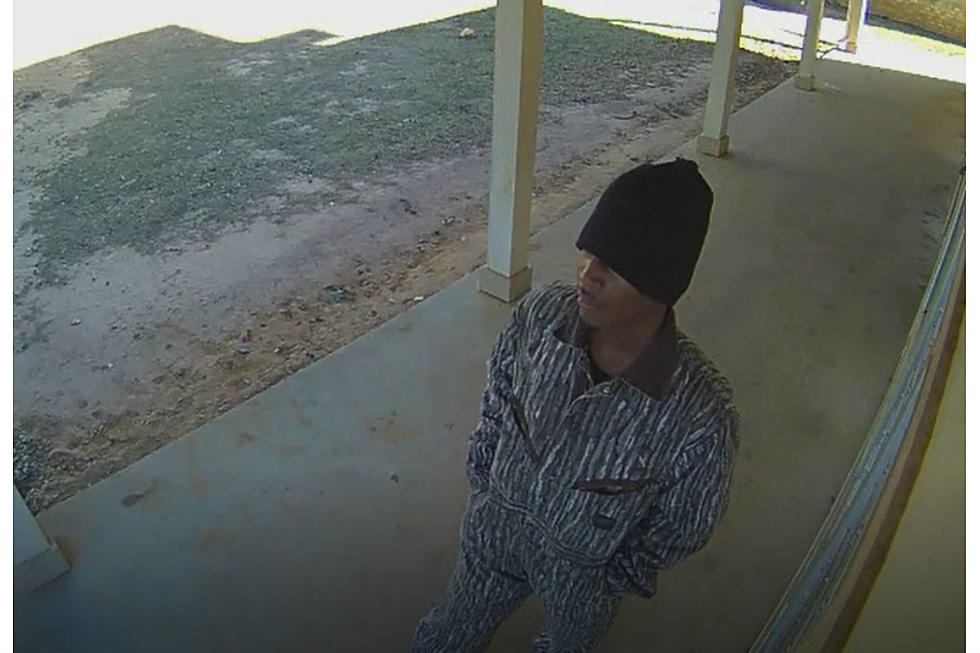Person: (405, 159, 744, 653)
